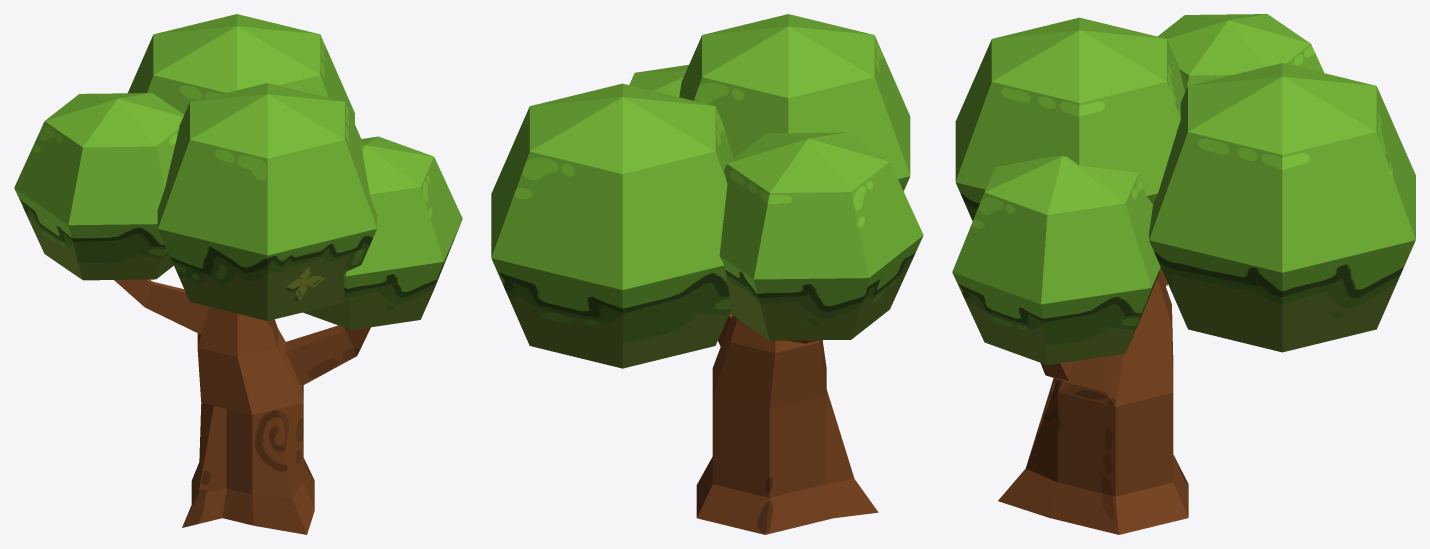
The model's file is arbol.fbx.
3 views of the same model, side by side, from view 1: azimuth 30°, elevation 25°; view 2: azimuth 150°, elevation 25°; view 3: azimuth 270°, elevation 25° (orthographic). The views are drawn at different scales.
Visible parts, largest first — view 1: Sphere.002, Cylinder, Sphere.001, Sphere, Sphere.003; view 2: Sphere.003, Sphere.001, Cylinder, Sphere.002, Sphere; view 3: Sphere.003, Sphere, Sphere.002, Cylinder, Sphere.001.
Part boxes in pixels (box(x1,y1,x2,y2)): Sphere.002: box(157, 83, 377, 320); Cylinder: box(114, 279, 370, 534); Sphere.001: box(14, 93, 183, 280); Sphere: box(303, 136, 462, 330); Sphere.003: box(128, 14, 354, 123); Sphere.003: box(491, 83, 733, 368); Sphere.001: box(719, 132, 923, 340); Cylinder: box(696, 313, 878, 534); Sphere.002: box(679, 14, 910, 191); Sphere: box(629, 64, 688, 97); Sphere.003: box(1149, 63, 1415, 352); Sphere: box(952, 155, 1161, 364); Sphere.002: box(955, 17, 1184, 220); Cylinder: box(998, 268, 1188, 534); Sphere.001: box(1157, 14, 1324, 92).
Bounding box in the file's own units: 311 × 361 × 323.
